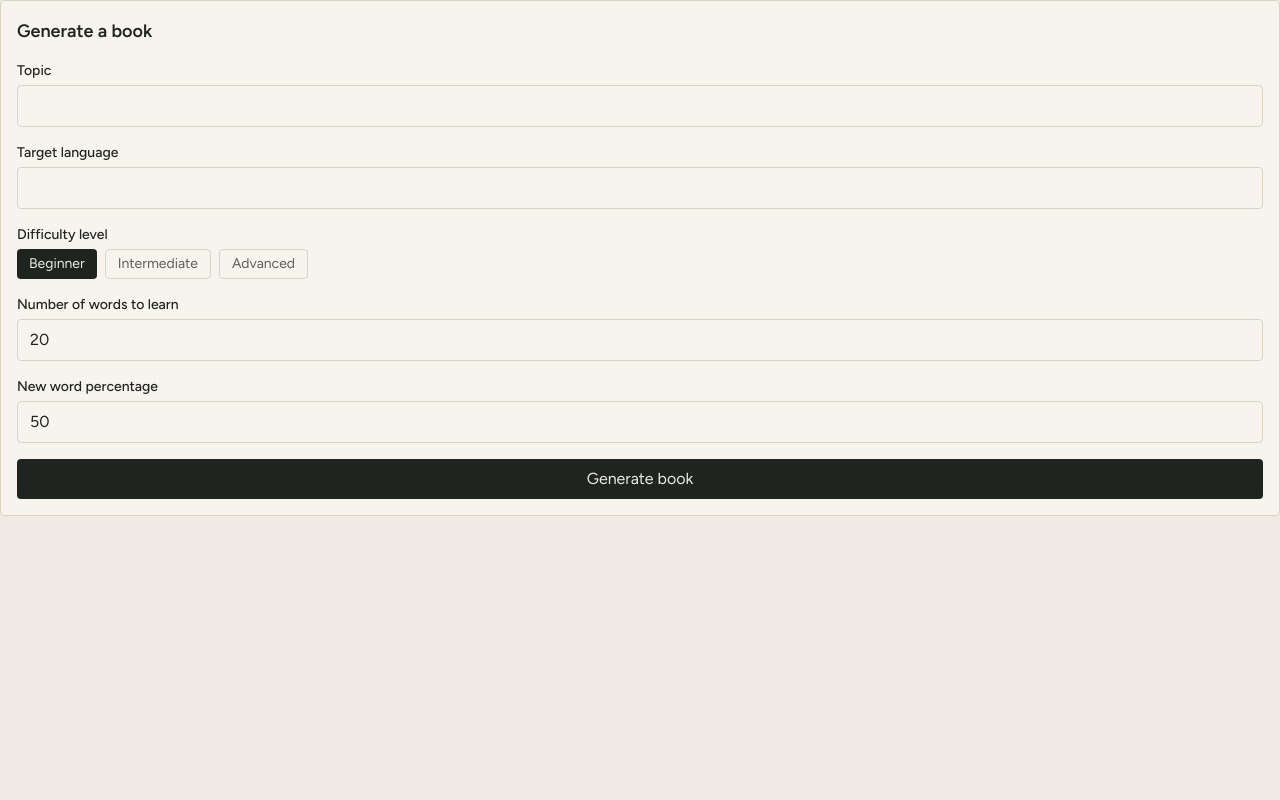
Test: GenerateBookForm › a non-ok response from the API surfaces the server error message instead of refreshing
The image size is (1280, 800).
Type "x" into the field labelled "Topic" at (640, 106), box [17, 85, 1263, 127]
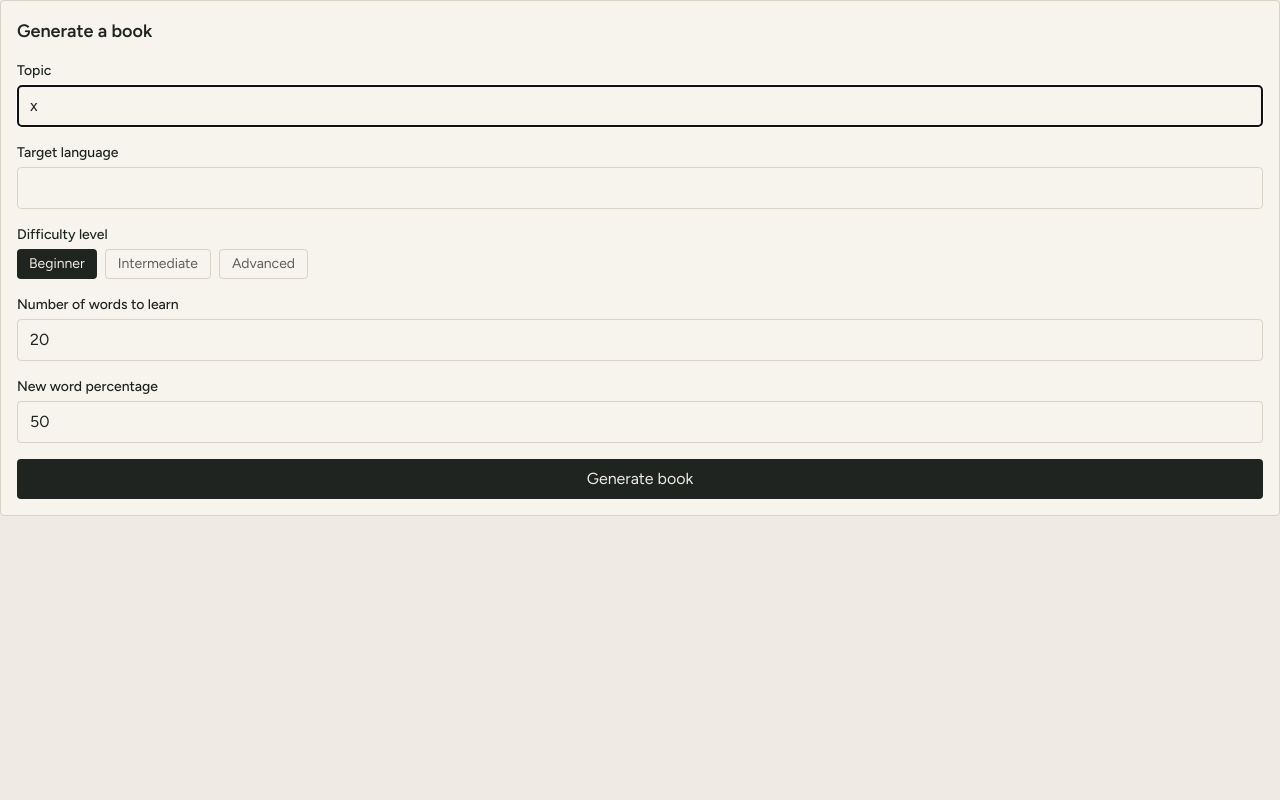
Type "french" into the field labelled "Target language" at (640, 188), box [17, 167, 1263, 209]
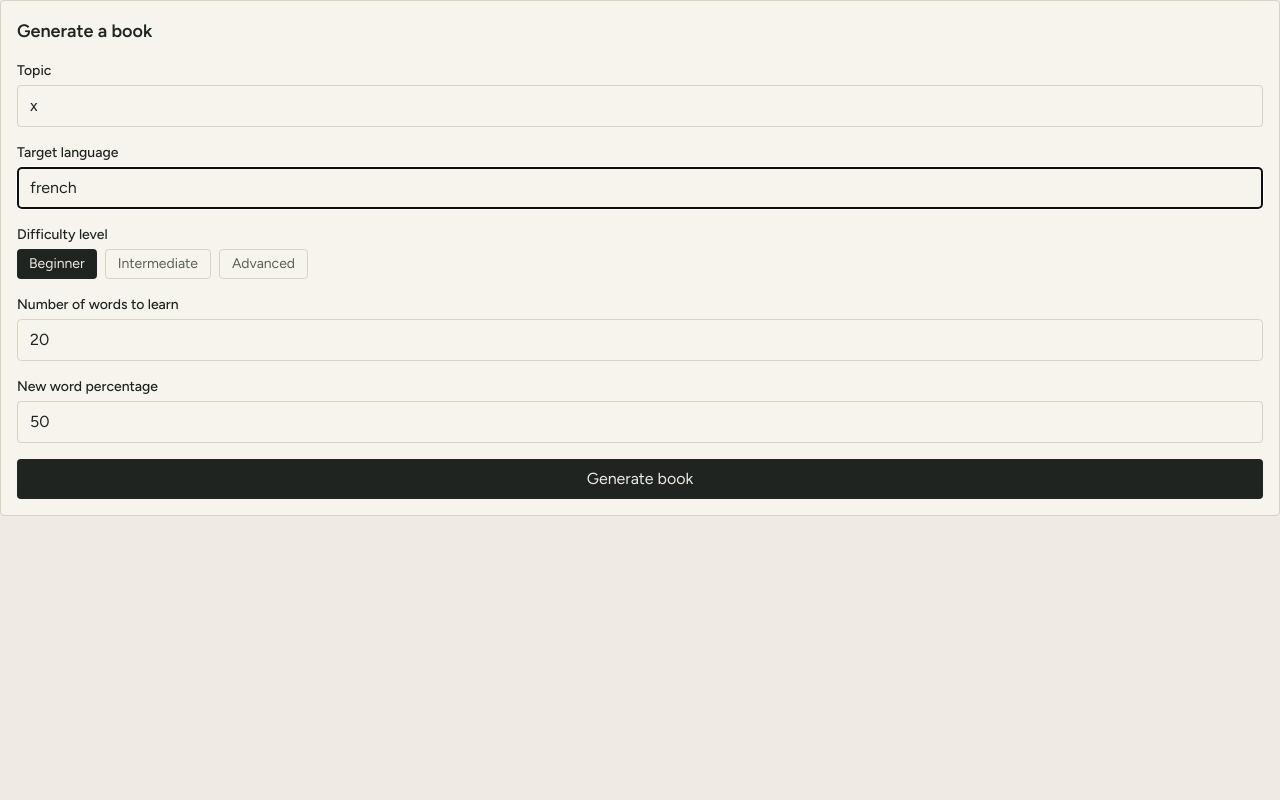
Click the button "Generate book" at (640, 479), box [17, 459, 1263, 499]
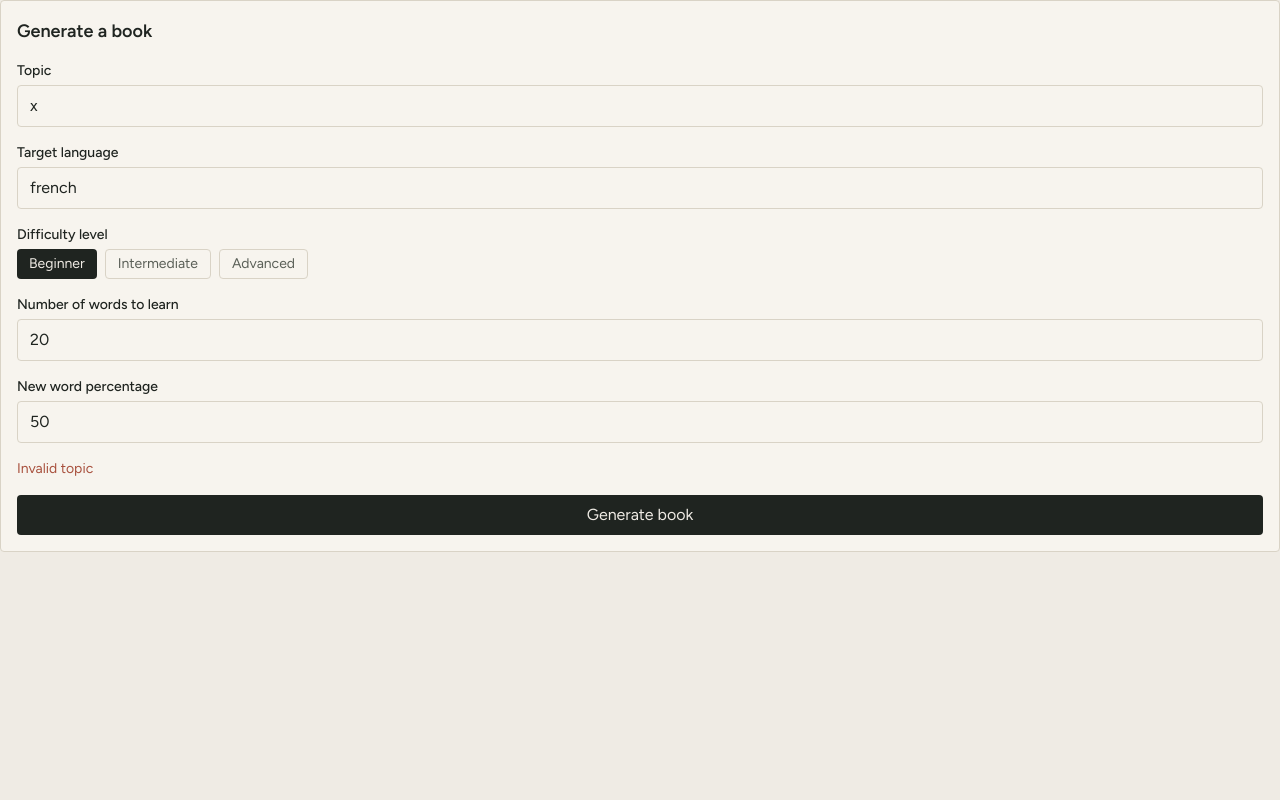
Now the text "Invalid topic" is shown, box [17, 460, 93, 477]
